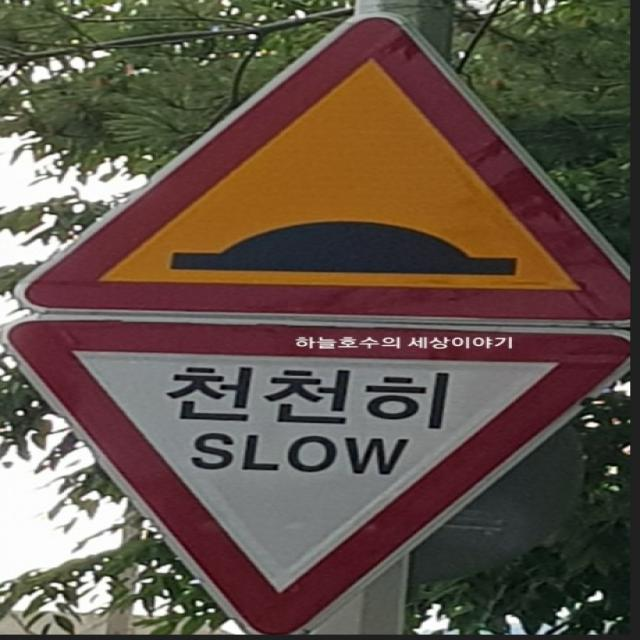Speed_bump_ahead: (6, 0, 640, 319)
regulatory_Drive_slowly: (0, 307, 640, 627)
